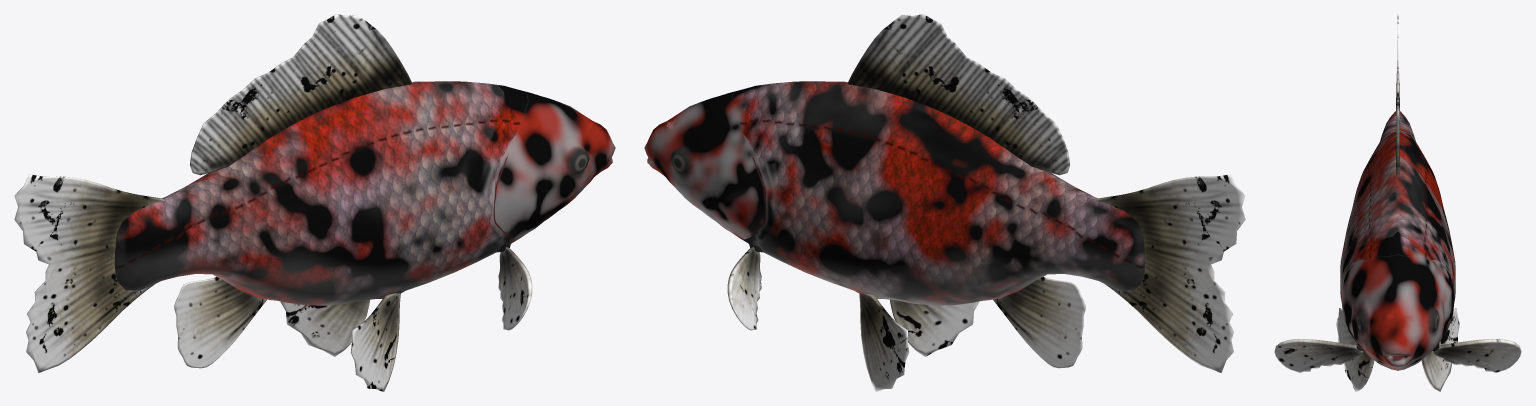
File: shubunkin.glb
The picture shows the model from 3 angles, left to right: view 1: azimuth 30°, elevation 25°; view 2: azimuth 150°, elevation 25°; view 3: azimuth 270°, elevation 25°; orthographic projection. The views are drawn at different scales.
Visible parts, largest first — view 1: SW_shubunkin_body, SW_shubunkin_fin_caudal, SW_shubunkin_fin_dorsal, SW_shubunkin_finRear, SW_shubunkin_fin_pelvic_R, SW_shubunkin_fin_pelvic_L, SW_shubunkin_fin_pectoral_R; view 2: SW_shubunkin_body, SW_shubunkin_fin_caudal, SW_shubunkin_fin_dorsal, SW_shubunkin_finRear, SW_shubunkin_fin_pelvic_L, SW_shubunkin_fin_pelvic_R, SW_shubunkin_fin_pectoral_L; view 3: SW_shubunkin_body, SW_shubunkin_fin_pectoral_L, SW_shubunkin_fin_pectoral_R, SW_shubunkin_fin_pelvic_L, SW_shubunkin_fin_pelvic_R, SW_shubunkin_fin_dorsal, SW_shubunkin_fin_caudal.
Part boxes in pixels (x1,y1,x2,y2): SW_shubunkin_body: (114, 81, 615, 305); SW_shubunkin_fin_caudal: (14, 174, 164, 372); SW_shubunkin_fin_dorsal: (190, 14, 412, 175); SW_shubunkin_finRear: (174, 277, 266, 368); SW_shubunkin_fin_pelvic_R: (350, 293, 400, 391); SW_shubunkin_fin_pelvic_L: (280, 299, 369, 356); SW_shubunkin_fin_pectoral_R: (498, 247, 532, 330); SW_shubunkin_body: (644, 81, 1145, 305); SW_shubunkin_fin_caudal: (1095, 174, 1245, 372); SW_shubunkin_fin_dorsal: (847, 14, 1069, 175); SW_shubunkin_finRear: (993, 277, 1085, 368); SW_shubunkin_fin_pelvic_L: (859, 293, 909, 391); SW_shubunkin_fin_pelvic_R: (890, 299, 979, 356); SW_shubunkin_fin_pectoral_L: (727, 247, 761, 330); SW_shubunkin_body: (1340, 111, 1455, 370); SW_shubunkin_fin_pectoral_L: (1433, 339, 1521, 372); SW_shubunkin_fin_pectoral_R: (1274, 339, 1362, 372); SW_shubunkin_fin_pelvic_L: (1421, 308, 1459, 391); SW_shubunkin_fin_pelvic_R: (1336, 308, 1374, 391); SW_shubunkin_fin_dorsal: (1396, 66, 1399, 175); SW_shubunkin_fin_caudal: (1396, 14, 1399, 119).
Size of the model in its own units: 2.2 by 1.28 by 0.9182.
1 material, 1 textured.
